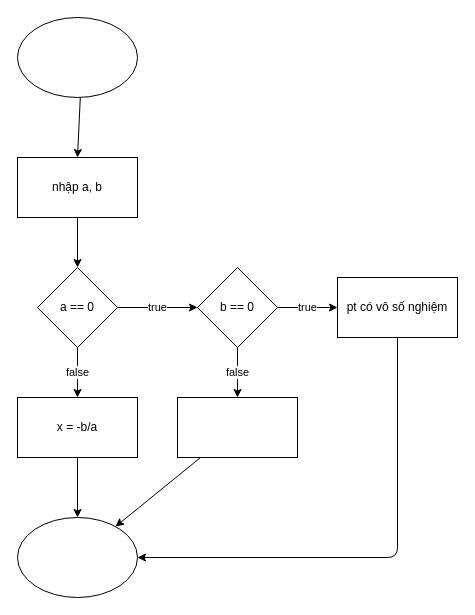
Image size: 475x615. Some labels were removed from this diagram. Here are the shapes that lost their labels. From the top down, the box of each, then its label:
(16, 16, 138, 98): bắt đầu
(176, 396, 298, 458): pt vô nghiệm
(16, 516, 138, 598): kết thúc
